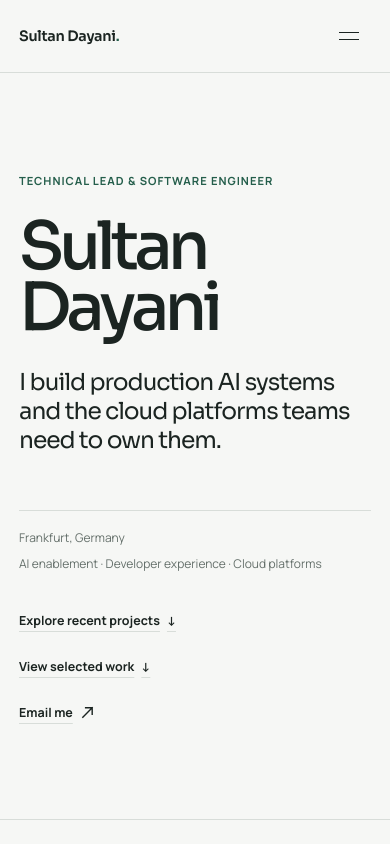
Test: professional portfolio › exposes an accessible mobile navigation state
Click the button named "Open navigation" at (349, 36), box [327, 14, 371, 58]
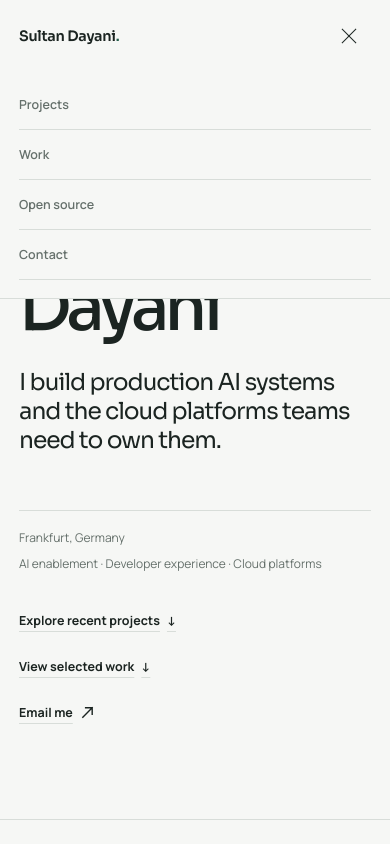
Expected: the button named "Open navigation" is expanded, [327, 14, 371, 58]
Press Escape
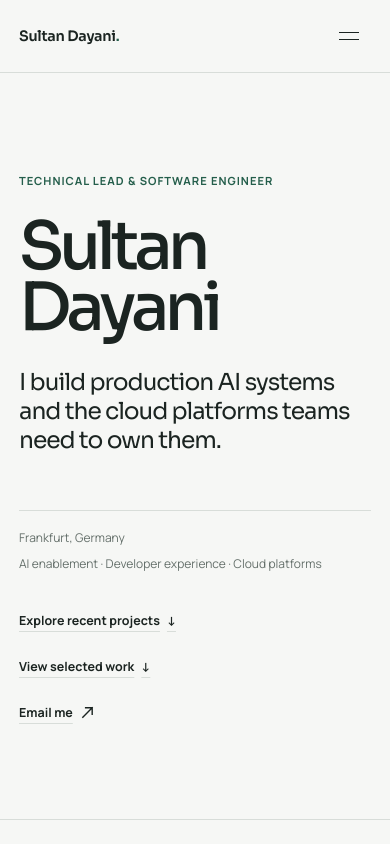
Expected: the button named "Open navigation" is collapsed, [327, 14, 371, 58]
